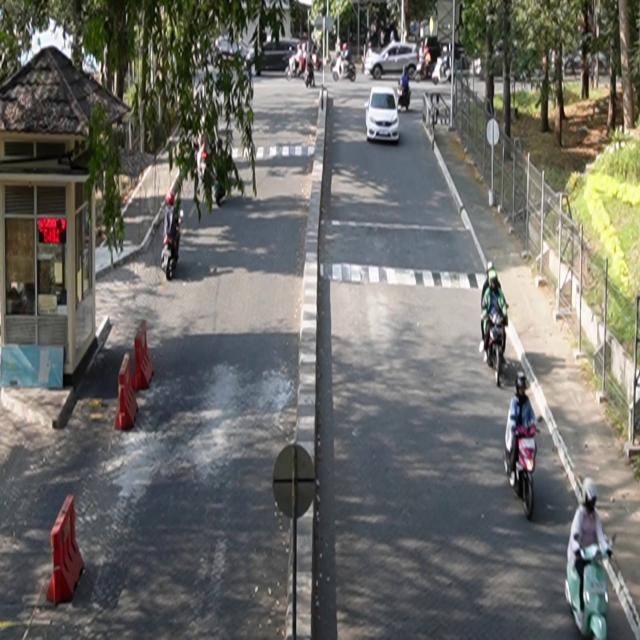car: (365, 86, 401, 144)
